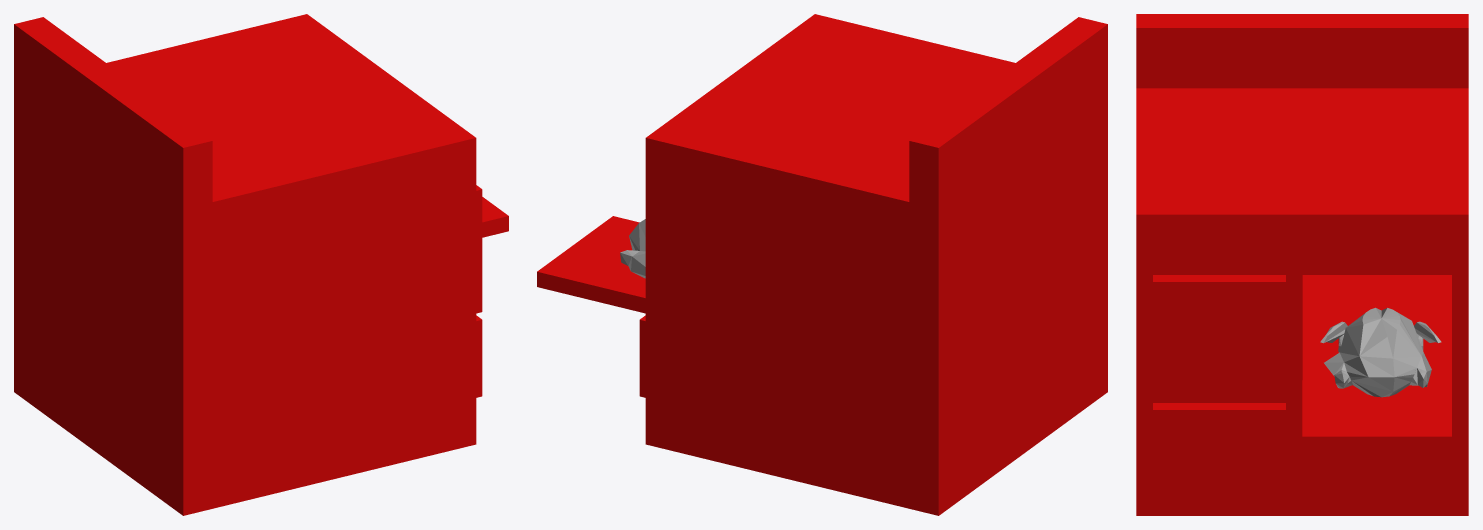
The model's file is SM_Oven_Open.fbx.
3 views of the same model, side by side, from view 1: azimuth 30°, elevation 25°; view 2: azimuth 150°, elevation 25°; view 3: azimuth 270°, elevation 25° (orthographic).
Parts seen in each view (by area): view 1: SM_Oven_Open; view 2: SM_Oven_Open; view 3: SM_Oven_Open.
Part boxes in pixels (bbox=[...]): SM_Oven_Open: bbox=[14, 14, 508, 515]; SM_Oven_Open: bbox=[537, 14, 1107, 515]; SM_Oven_Open: bbox=[1136, 14, 1468, 515].
Size of the model in its own units: 140 by 120 by 100.
